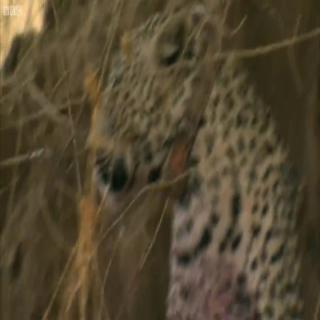Leopard: (87, 14, 314, 320)
